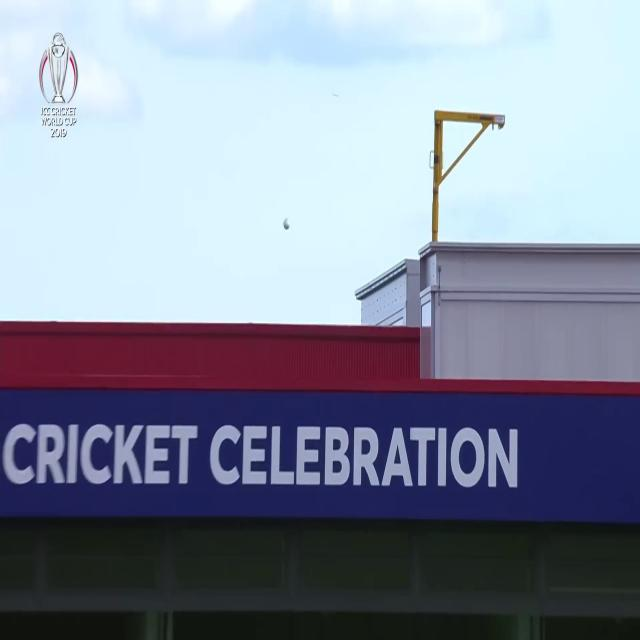ball: (281, 211, 293, 237)
